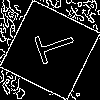T: (25, 25, 78, 69)
